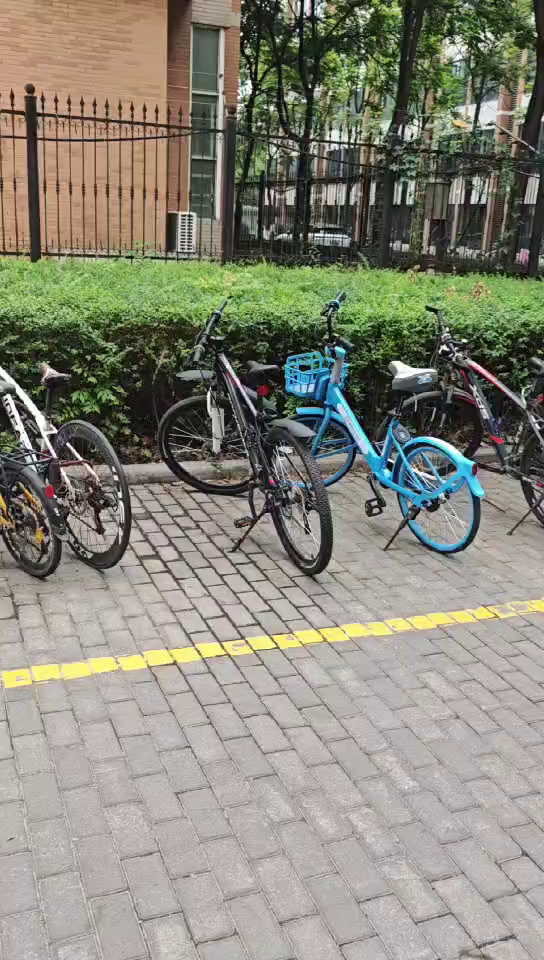others: (155, 310, 319, 590), (409, 306, 544, 575), (11, 328, 150, 565)
shared_bike_haluo: (279, 293, 477, 554)
